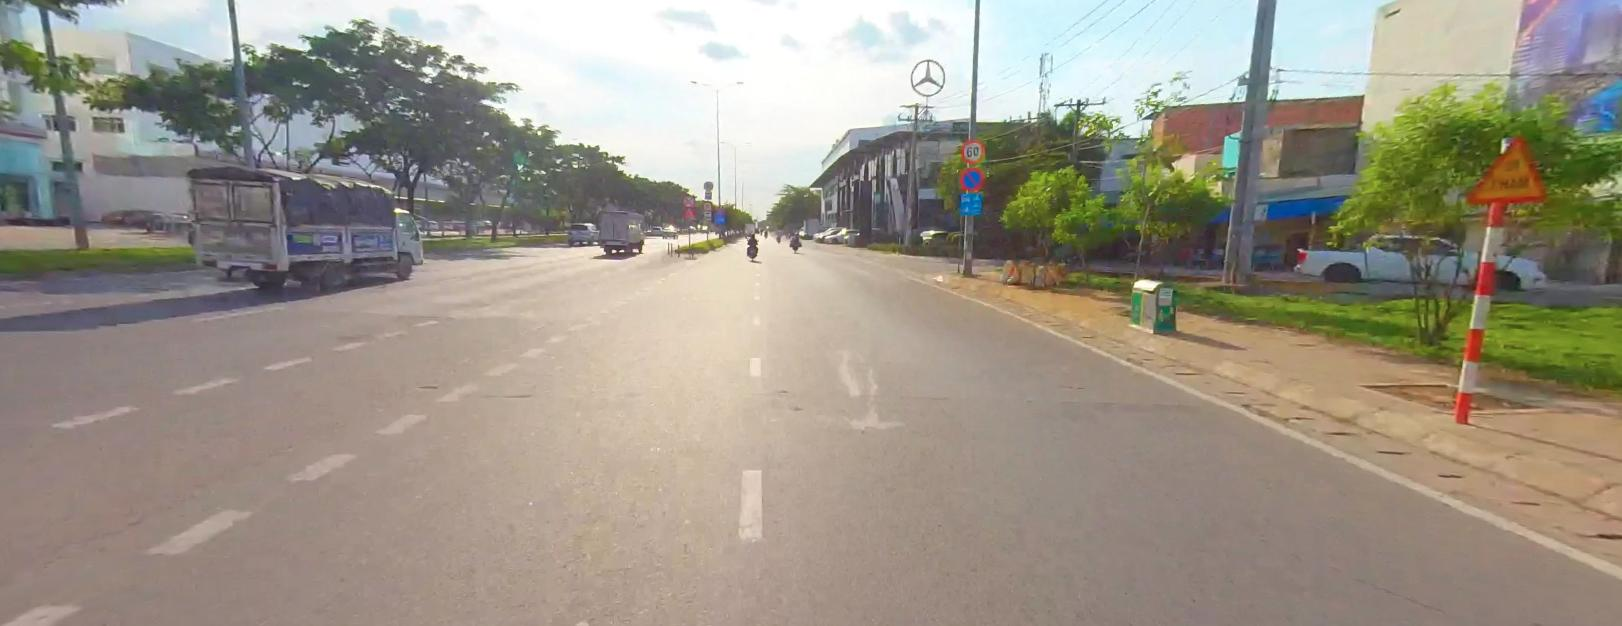Cam con lai: (682, 195, 694, 207), (702, 200, 711, 209), (704, 180, 712, 188)
Cam dung va do: (960, 167, 983, 190), (715, 206, 723, 214)
Gioi han toc do: (961, 139, 984, 163)
Nguy hiem: (1468, 135, 1545, 202)
